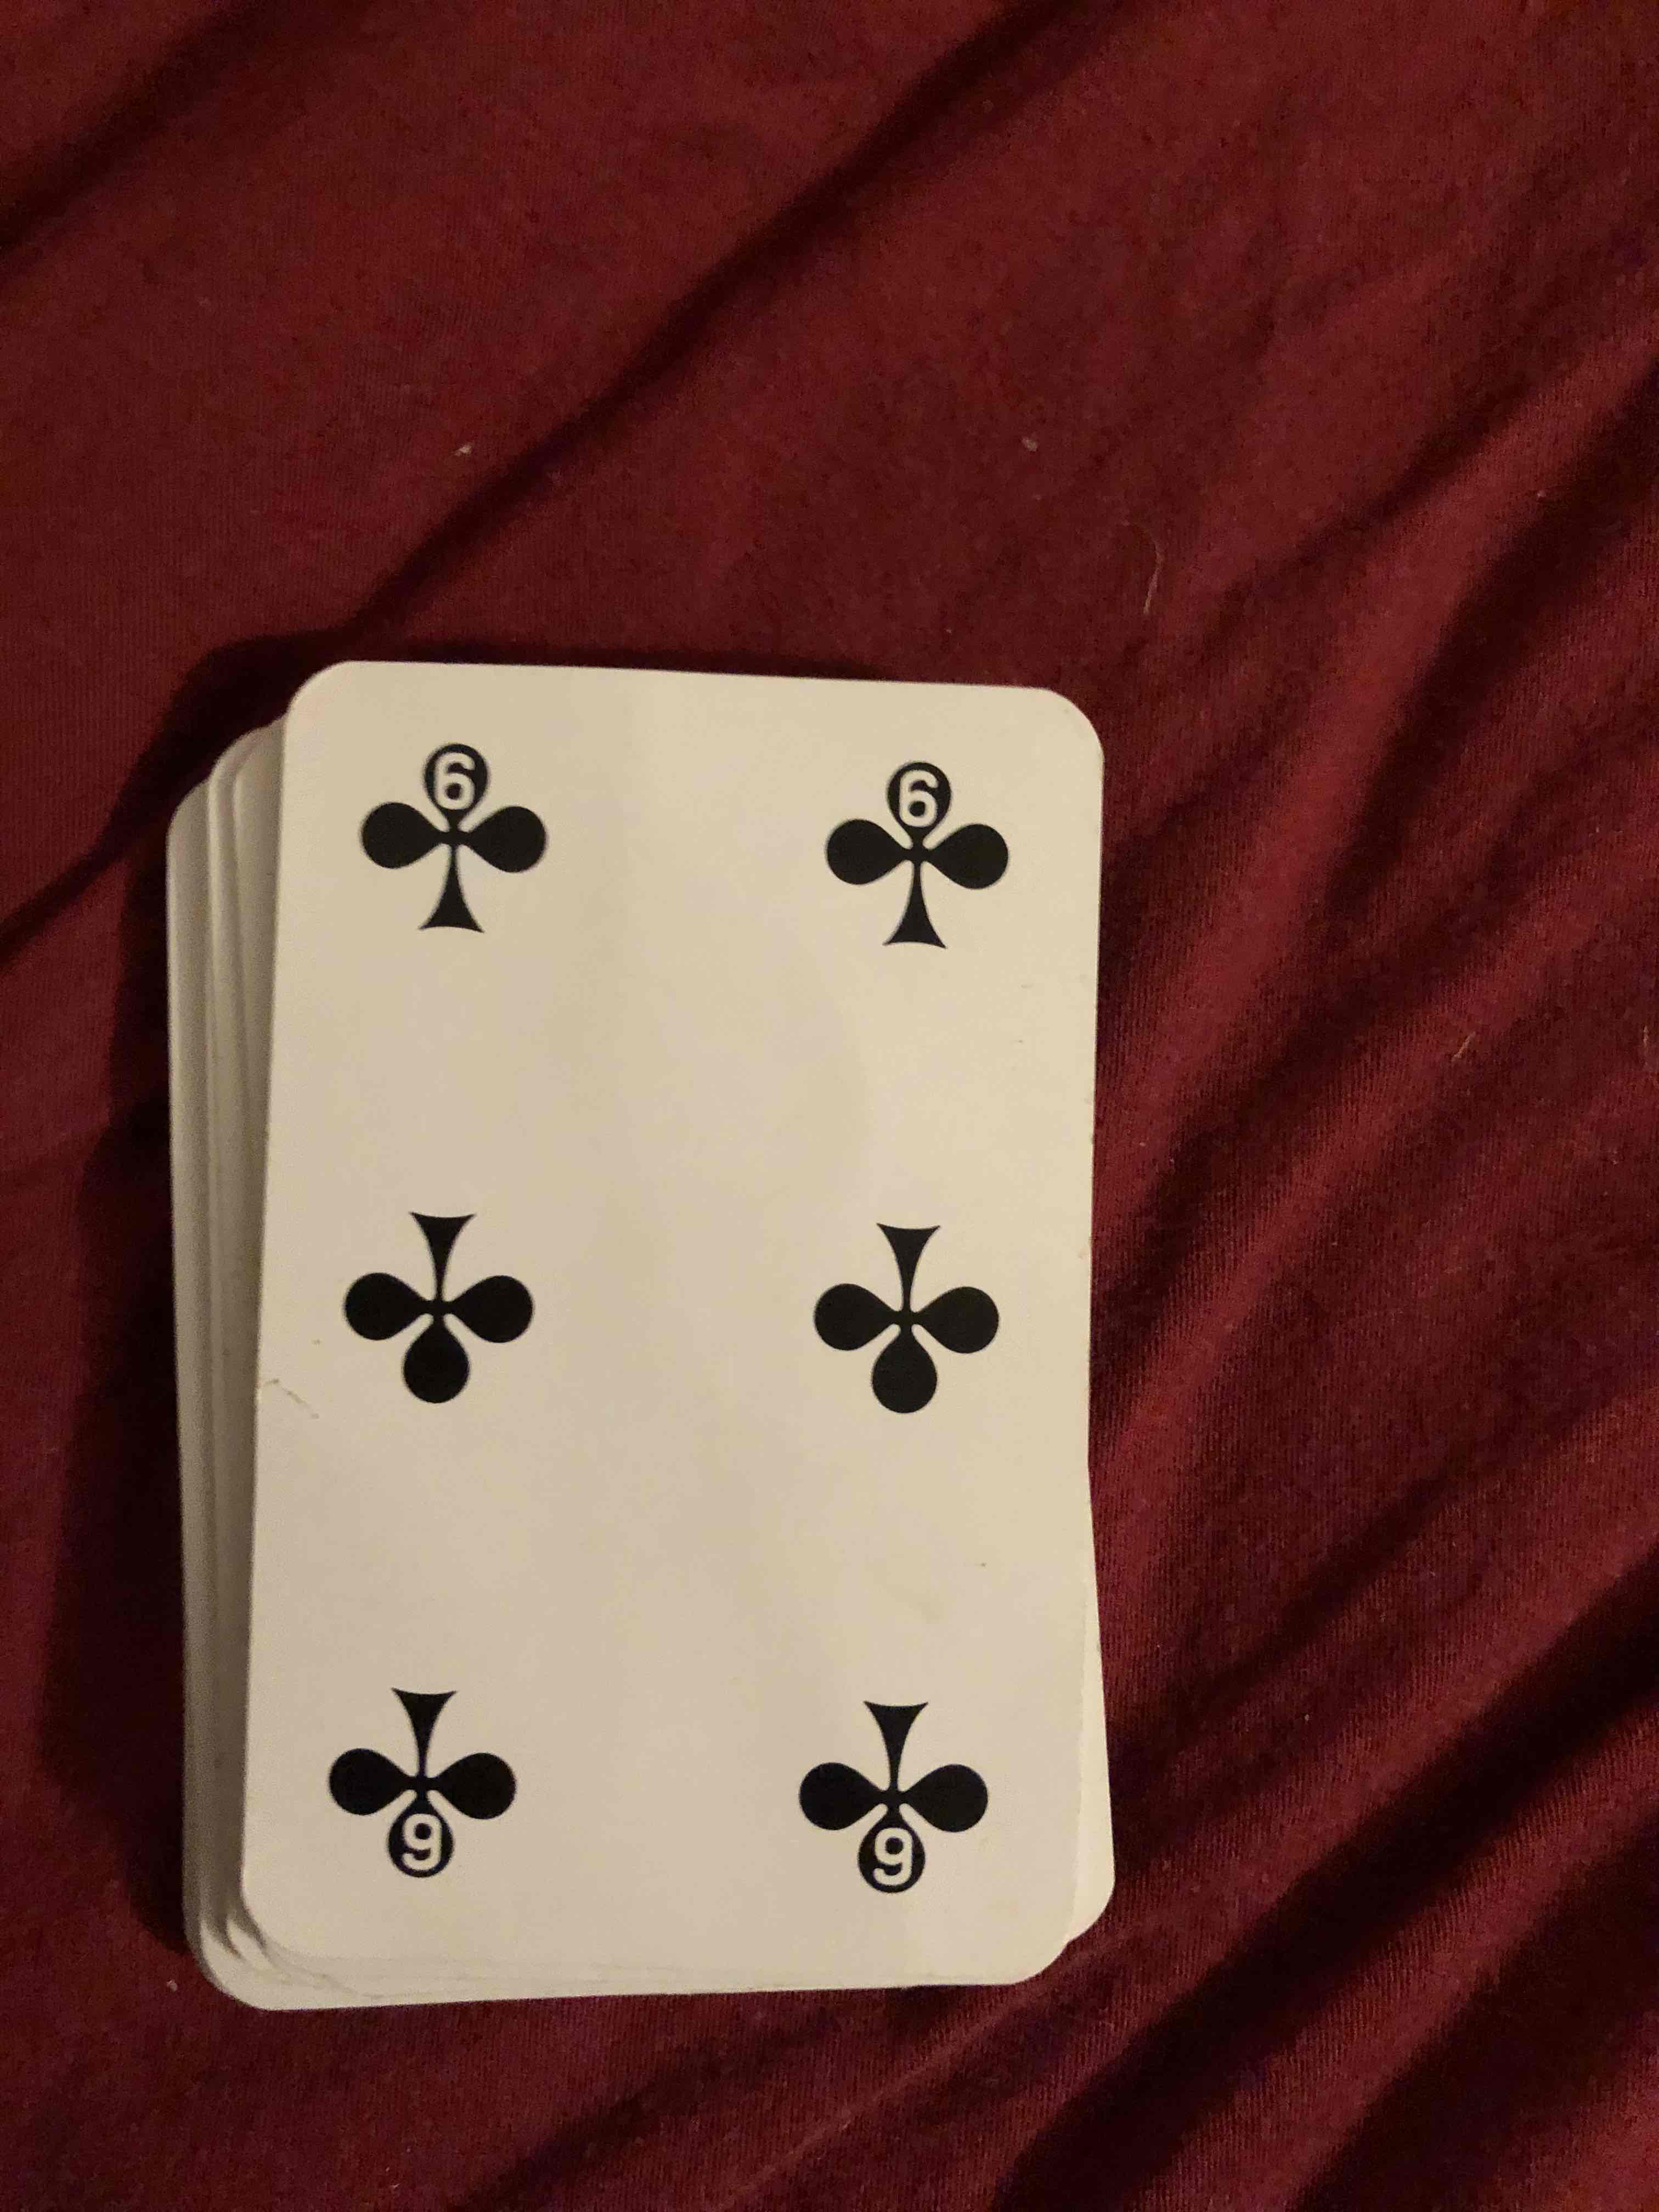clubs6: (305, 644, 1082, 1970)
